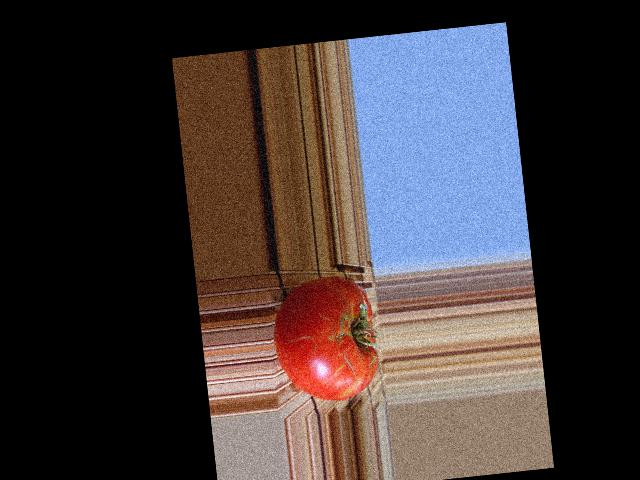tomato: (269, 272, 382, 406)
